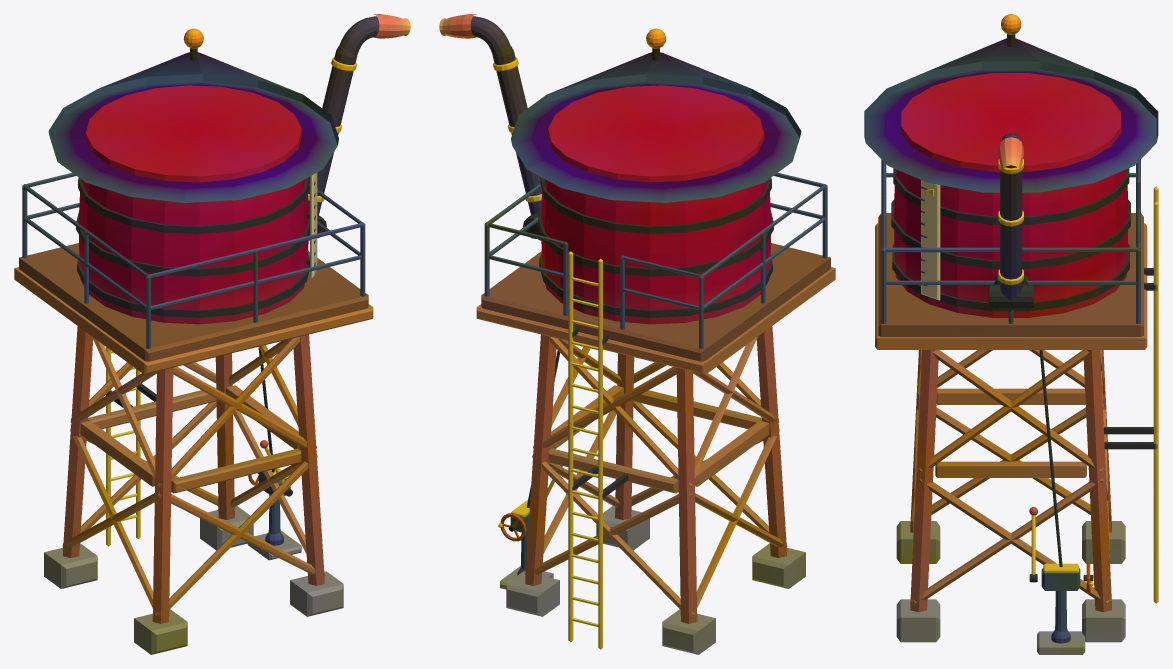
File: Yard_WaterTower.glb
The picture shows the model from 3 angles, left to right: view 1: azimuth 30°, elevation 25°; view 2: azimuth 150°, elevation 25°; view 3: azimuth 270°, elevation 25°; orthographic projection. The views are drawn at different scales.
Visible parts, largest first — view 1: Tower, Move_Spout; view 2: Tower, Move_Spout; view 3: Tower, Move_Spout, Move_Lever_Spout.
Part boxes in pixels (x1,y1,x2,y2): Tower: (14,28,373,654); Move_Spout: (307,14,410,238); Tower: (476,28,835,654); Move_Spout: (439,14,542,238); Tower: (864,14,1158,654); Move_Spout: (988,133,1033,308); Move_Lever_Spout: (1029,507,1037,582).
Size of the model in its own units: 4.98 by 7.96 by 3.66.
